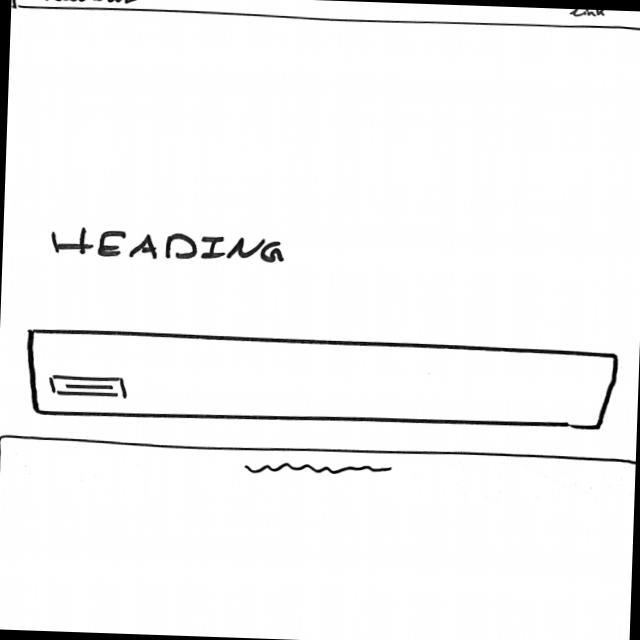container: (23, 327, 620, 435), (12, 1, 640, 33)
icon-button: (43, 371, 134, 402)
label: (49, 224, 290, 266), (39, 1, 141, 5), (570, 10, 608, 20)
text: (242, 460, 395, 479)
